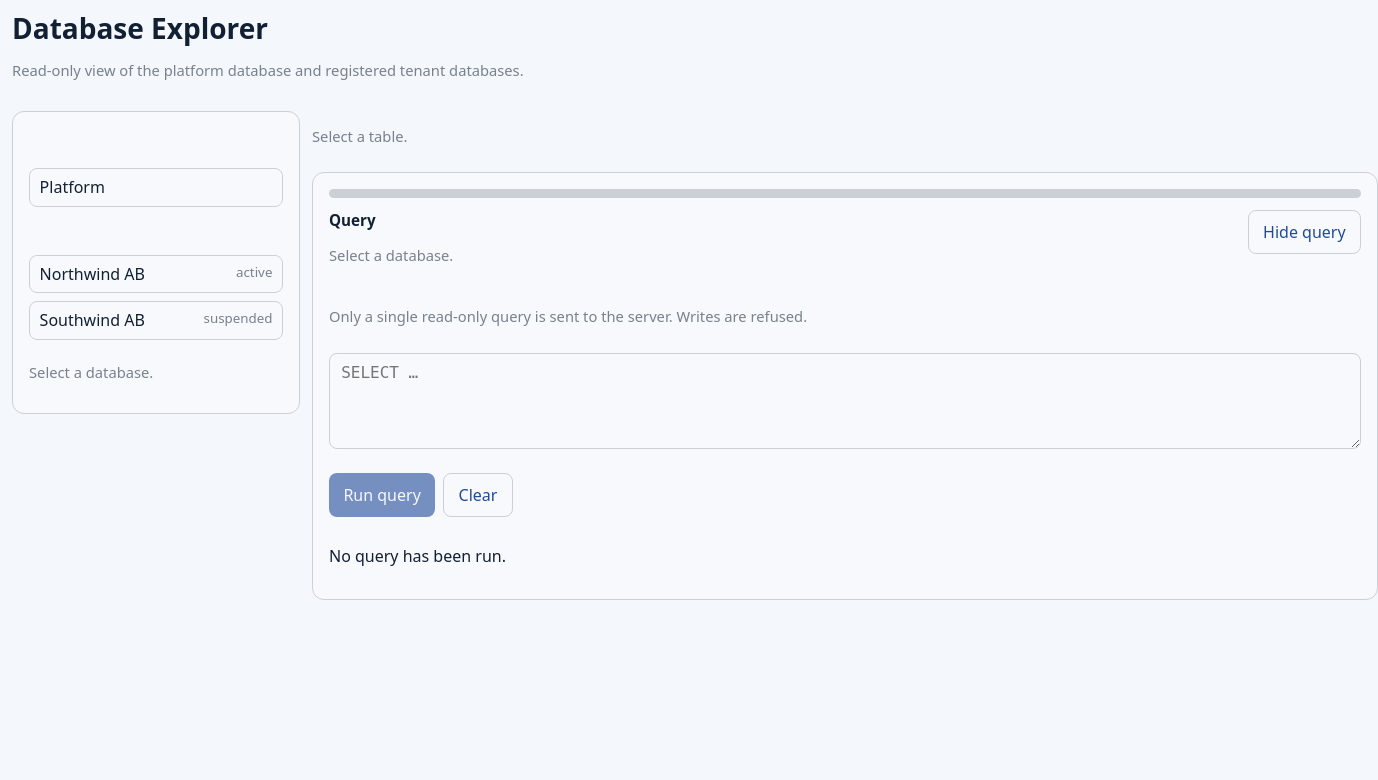
Test: database explorer page › shows success only after the query returns and ignores a second run
Click the button "Northwind AB active" at (156, 274), box [29,255,283,293]
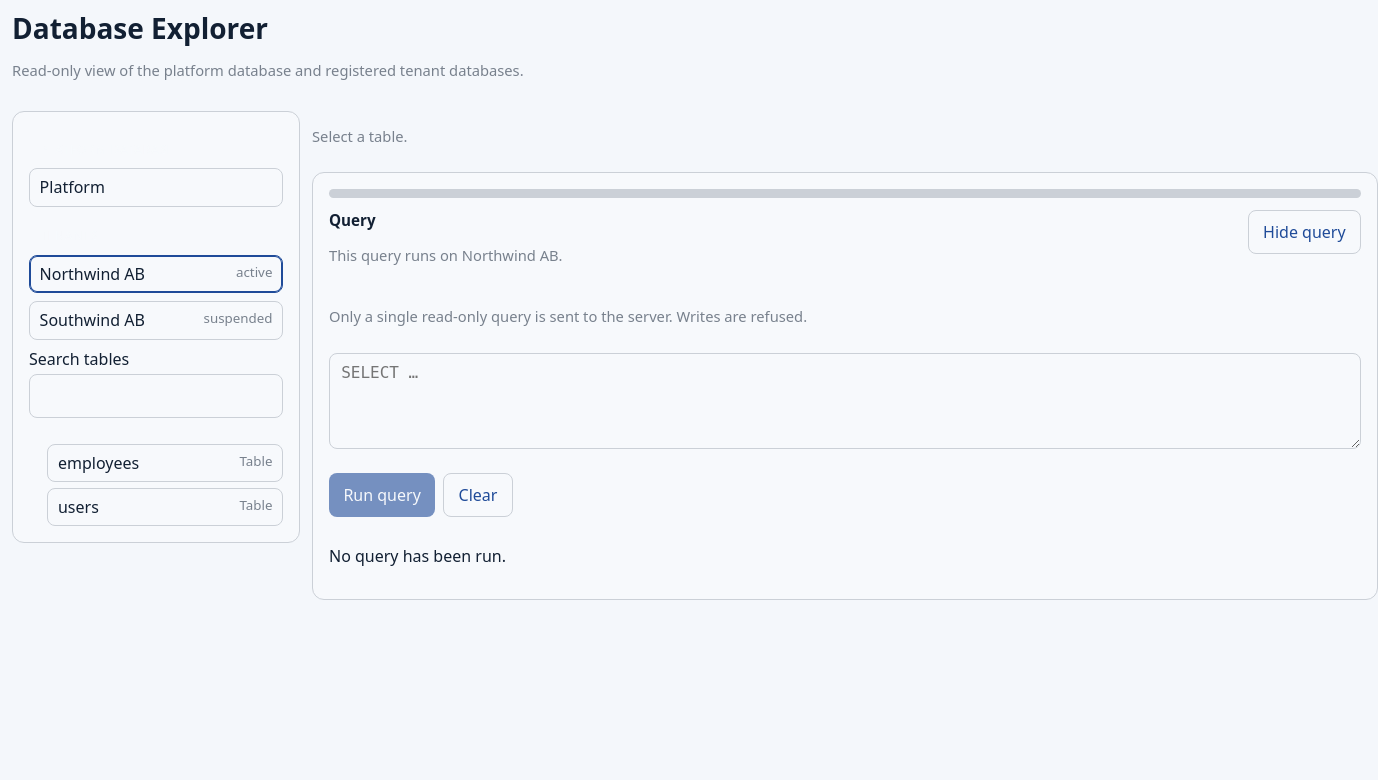
Type "SELECT display_name FROM employees" into the text box with placeholder "SELECT …" at (845, 401), box [329,353,1361,449]
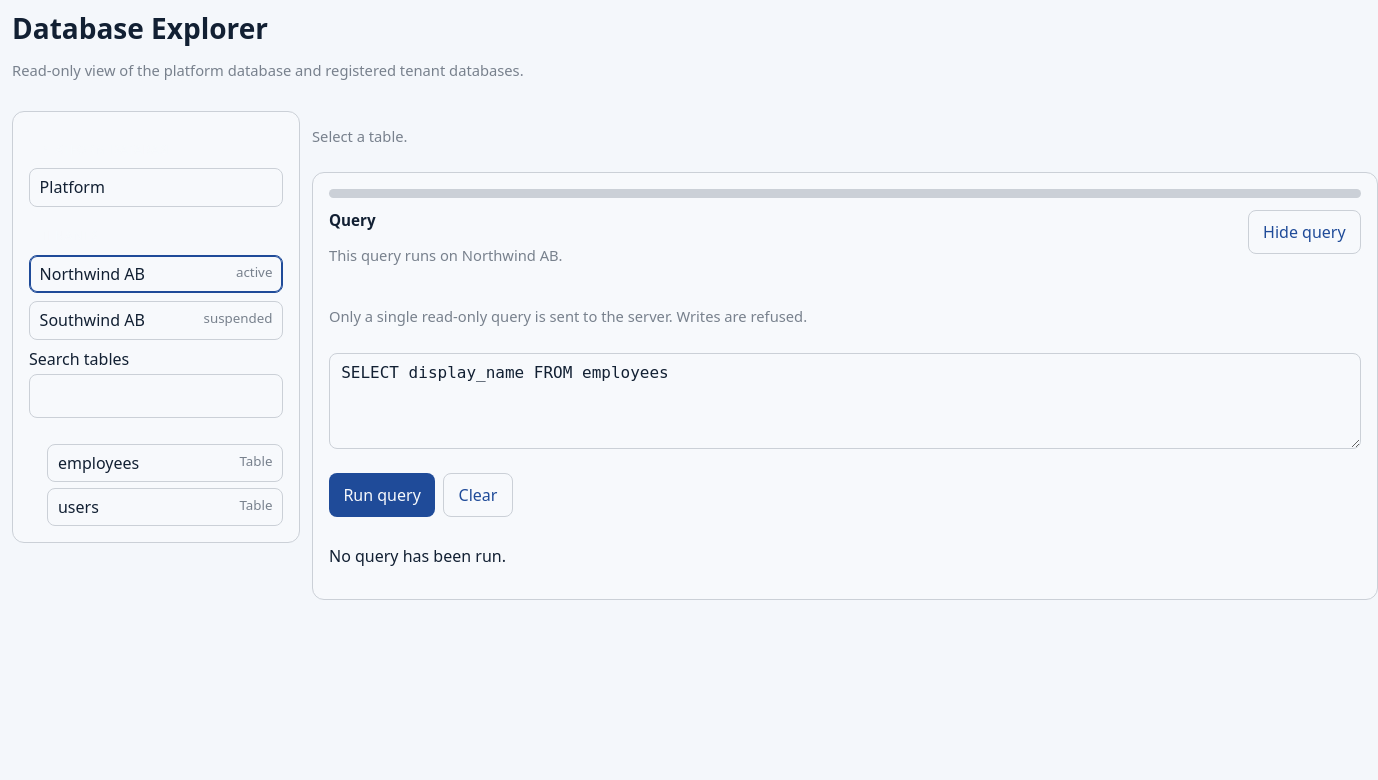
Click the button "Run query" at (382, 495), box [329,473,435,517]
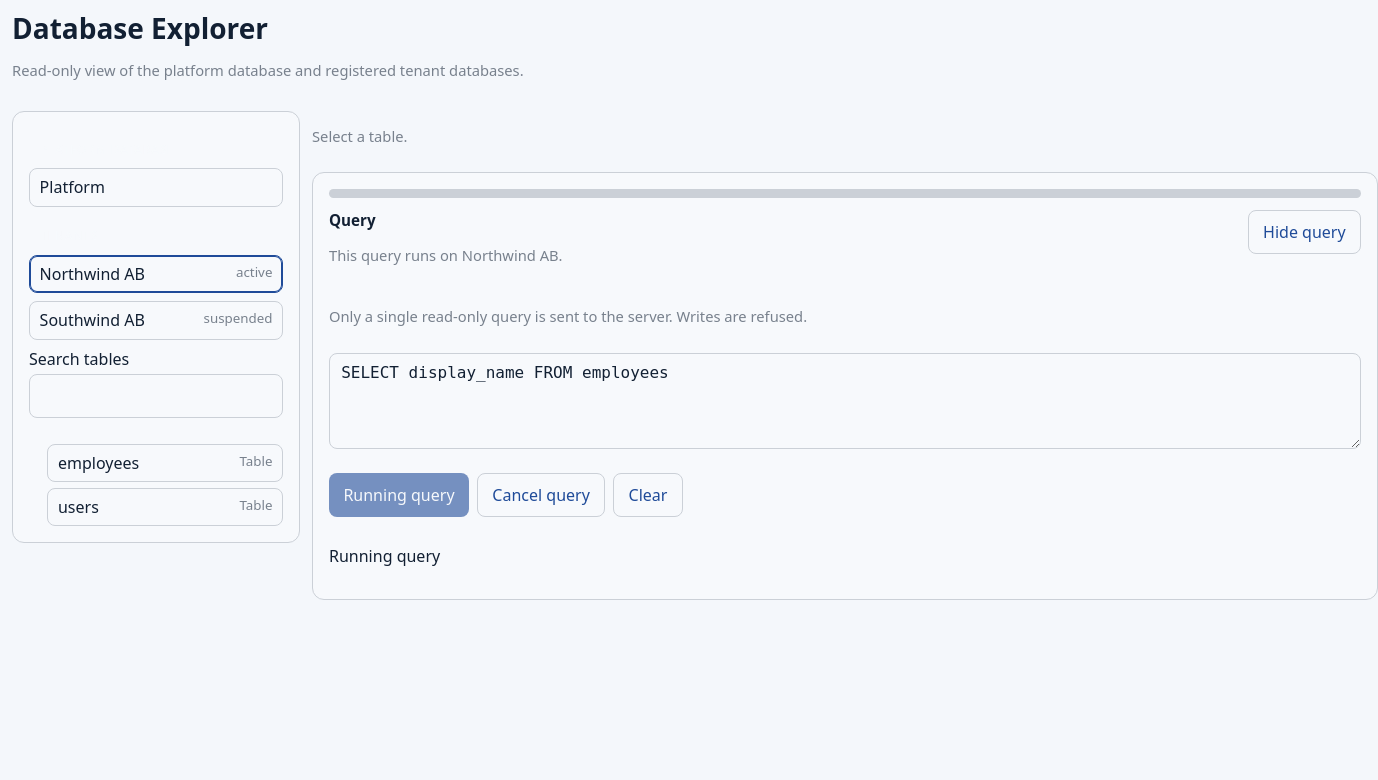
Expected: the message does not show "Query finished"
Result: the message reads "Running query" at [329,545,440,567]
Click the button "Running query" at (399, 495), box [329,473,469,517]
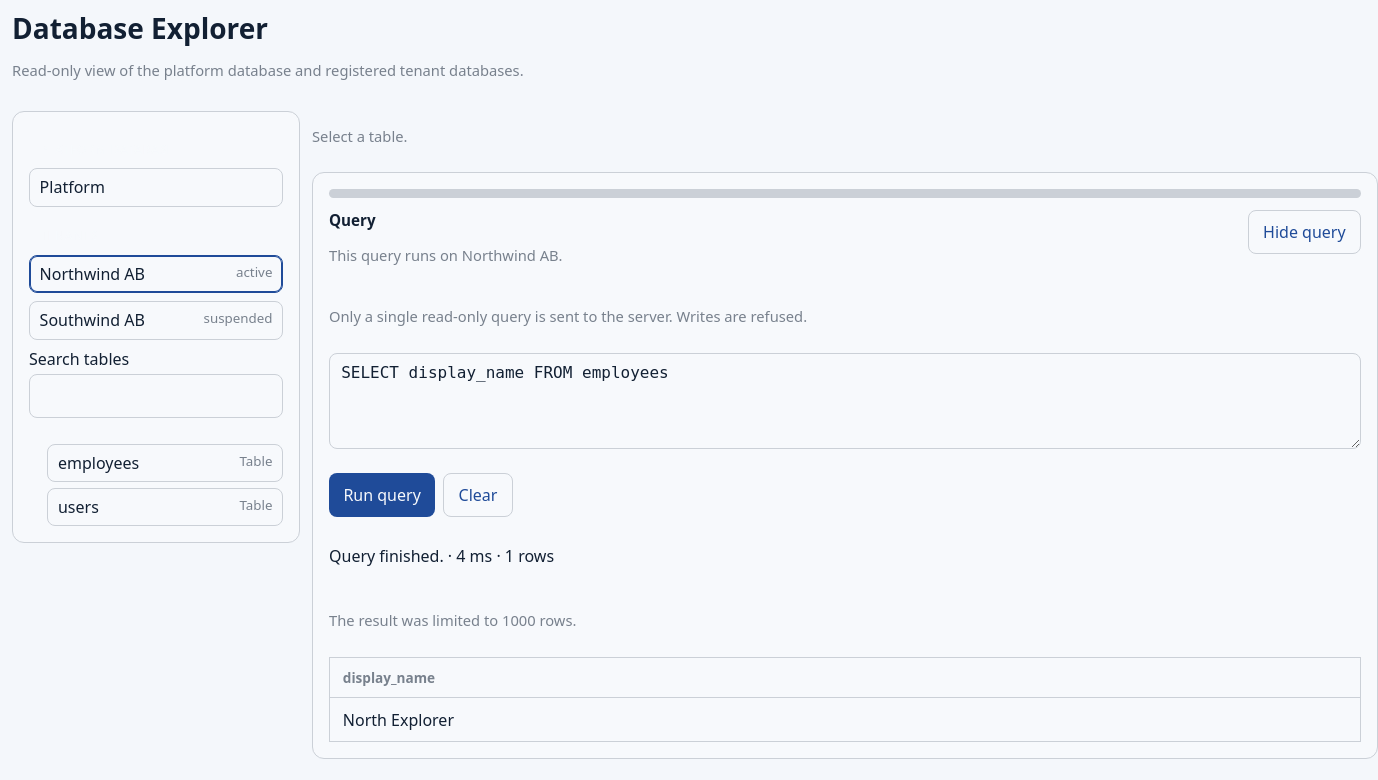
Result: the message shows "Query finished" at [329,545,444,567]
Result: the text "The result was limited to 1000 rows." is shown at [329,610,576,630]
Result: the text "North Explorer" is shown at [330,698,1360,742]
Click the button "Run query" at (382, 495), box [329,473,435,517]
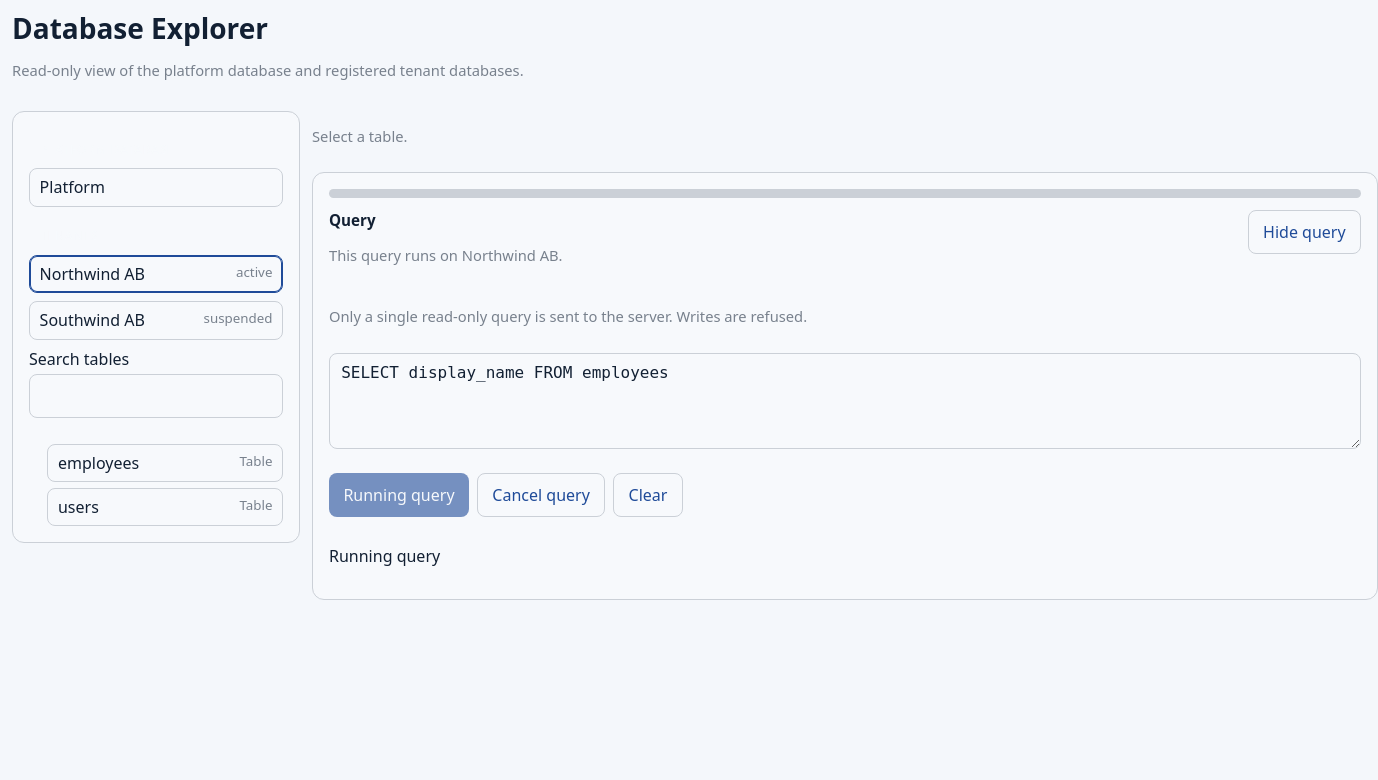
Result: the message reads "Running query" at [329,545,440,567]
Click the button "Cancel query" at (541, 495), box [477,473,605,517]
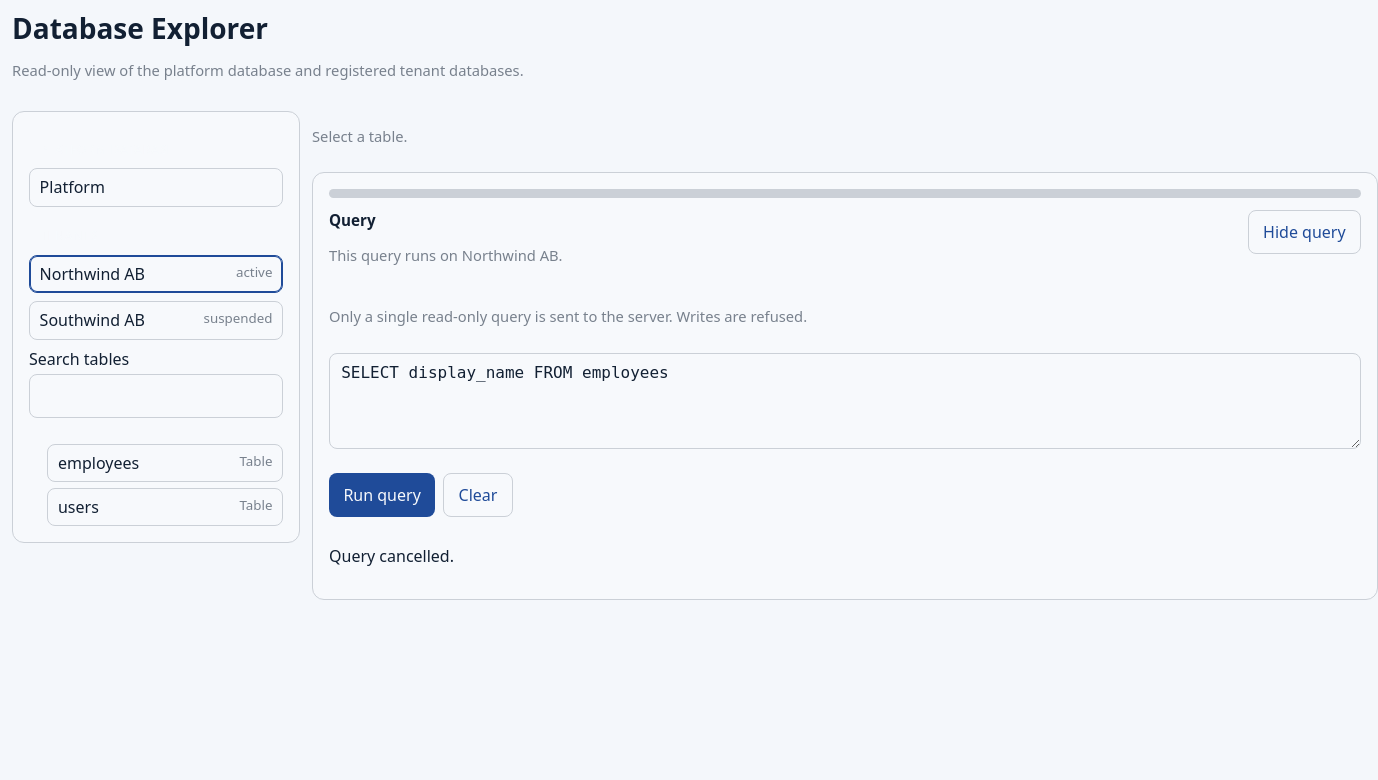
Expected: the message "Query finished. · 4 ms · 1 rows" does not show "Query finished"
Result: the message shows "Query cancelled" at [329,545,454,567]
